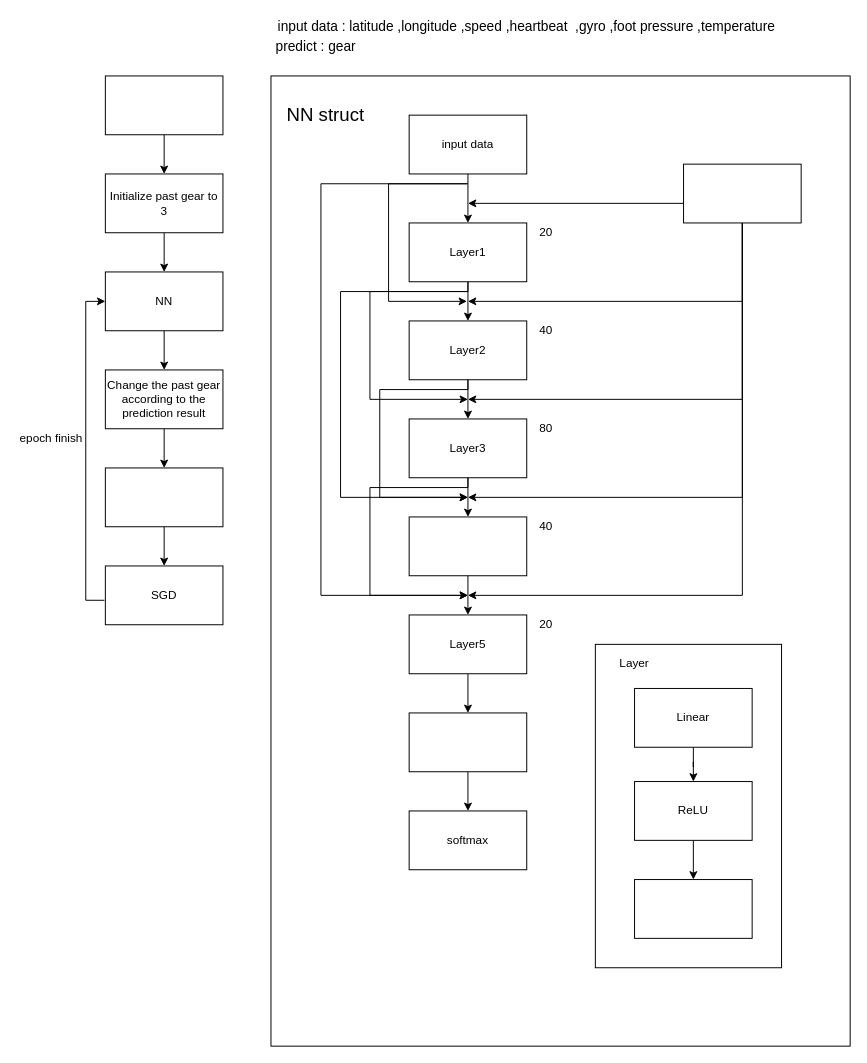
Image size: 867x1063. Some labels were removed from this diagram. Here are the shapes that lost their labels. From the top down, the centre of each, then its label:
pixel 163 105: load data
pixel 742 193: N times past gear
pixel 163 497: CrossEntropyLoss
pixel 467 546: Layer4
pixel 467 742: full connection
pixel 693 908: BatchNorm1d
